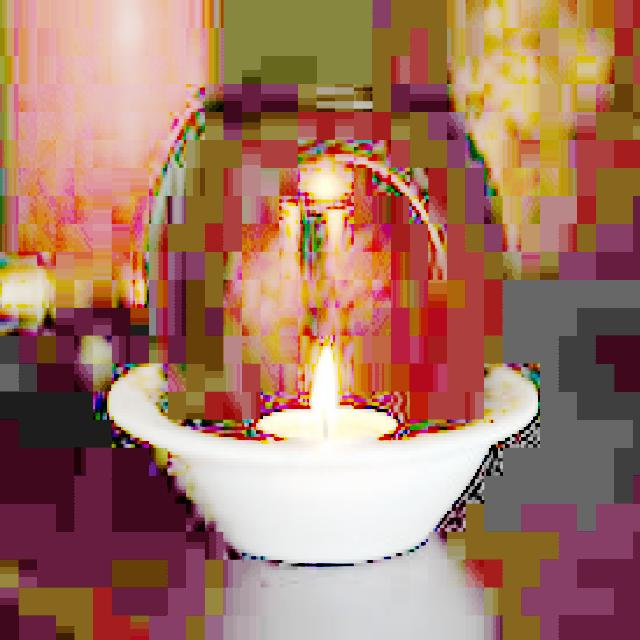api: (306, 330, 343, 435)
